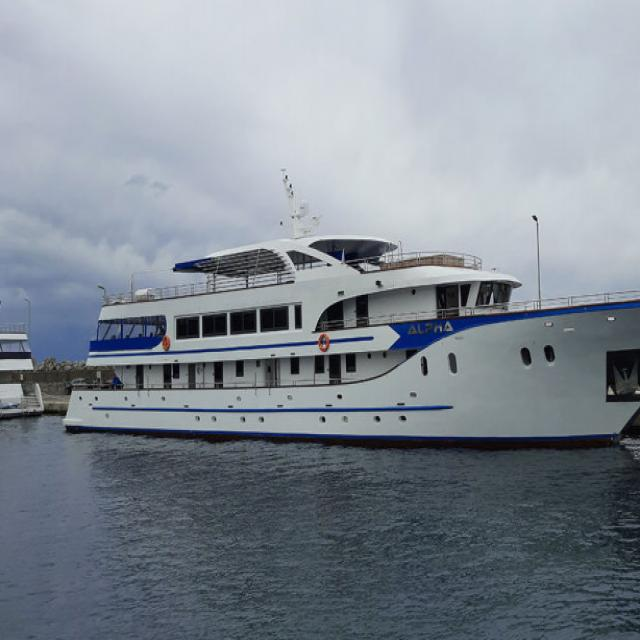cruises: (60, 222, 640, 466)
